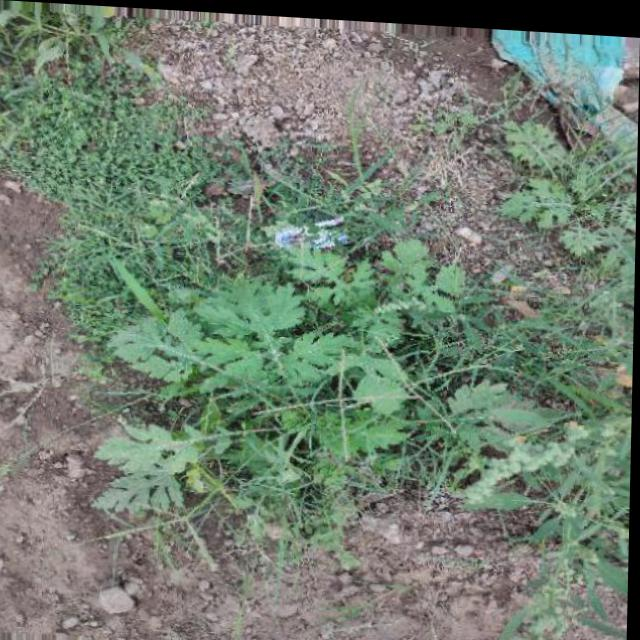weed: (108, 222, 510, 546), (28, 19, 207, 197), (490, 104, 639, 261)
